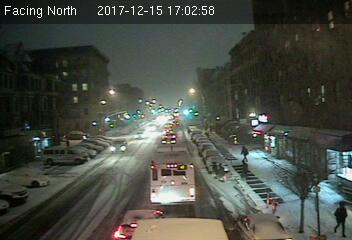bus: (150, 142, 197, 209)
car: (114, 209, 168, 239), (235, 213, 286, 240), (207, 157, 231, 174), (109, 139, 128, 153), (160, 136, 177, 143)
pedestrian: (333, 202, 348, 238), (240, 158, 250, 185)
